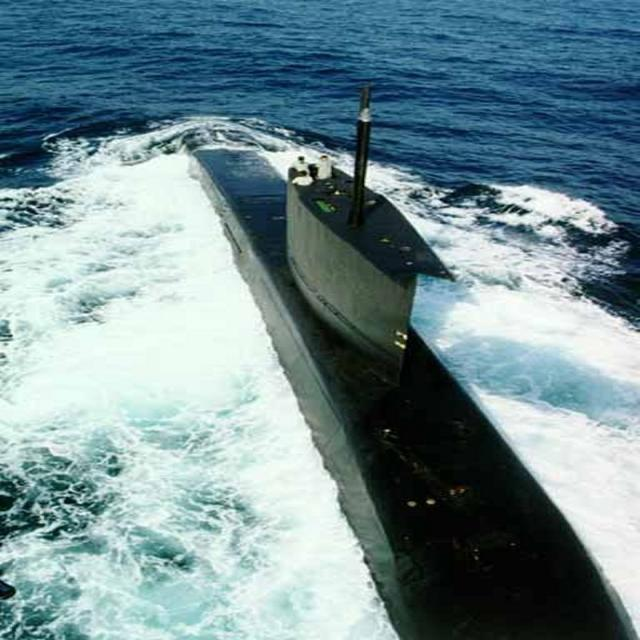Submarine-Shishumar-Class-IND: (177, 71, 640, 640)
